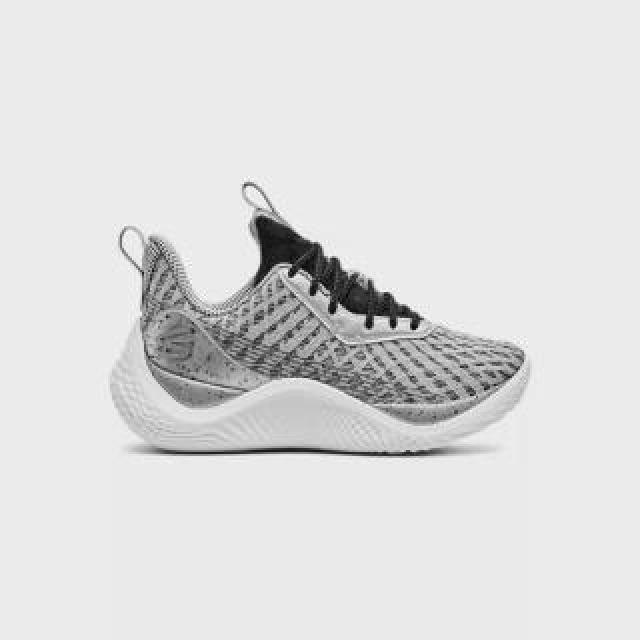shoe: (115, 179, 535, 455)
